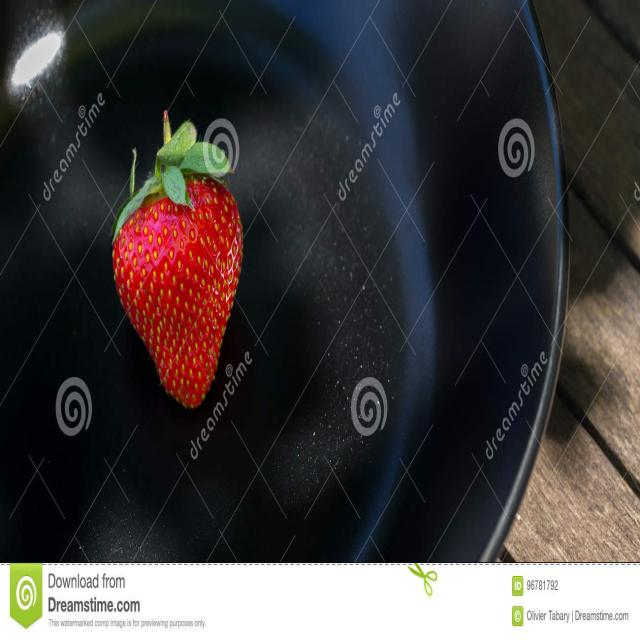strawberry: (100, 87, 254, 446)
